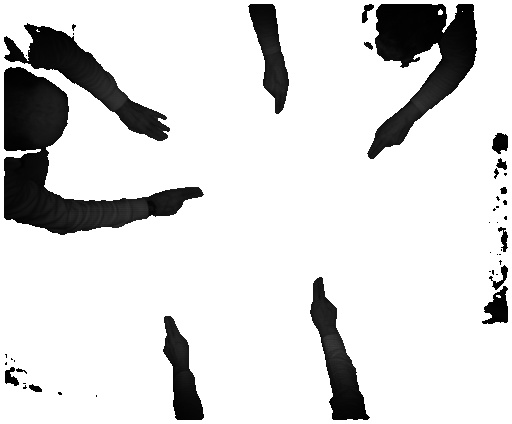hand: (360, 113, 411, 159), (304, 272, 343, 332), (155, 184, 207, 223), (123, 104, 175, 143), (256, 67, 295, 119), (160, 312, 191, 367)
